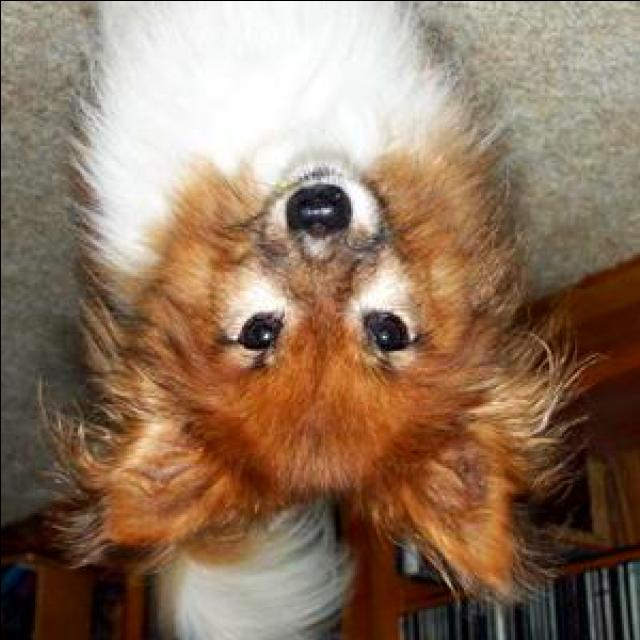papillon: (72, 2, 568, 640)
